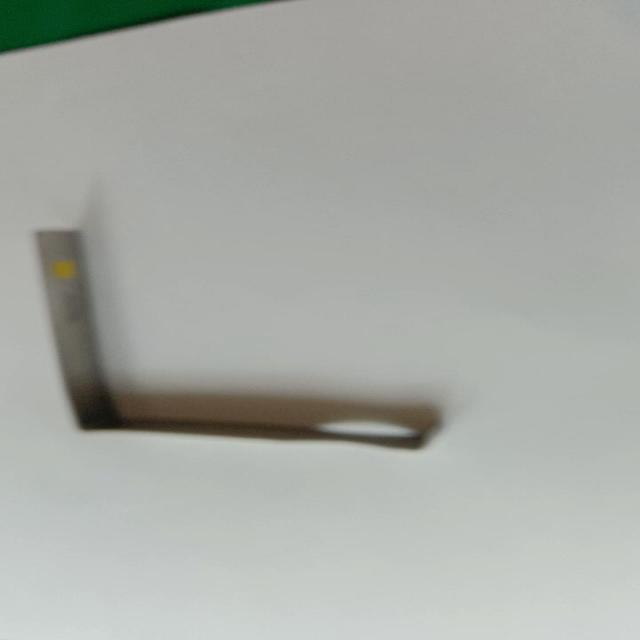AustinRetractor: (33, 225, 459, 458)
